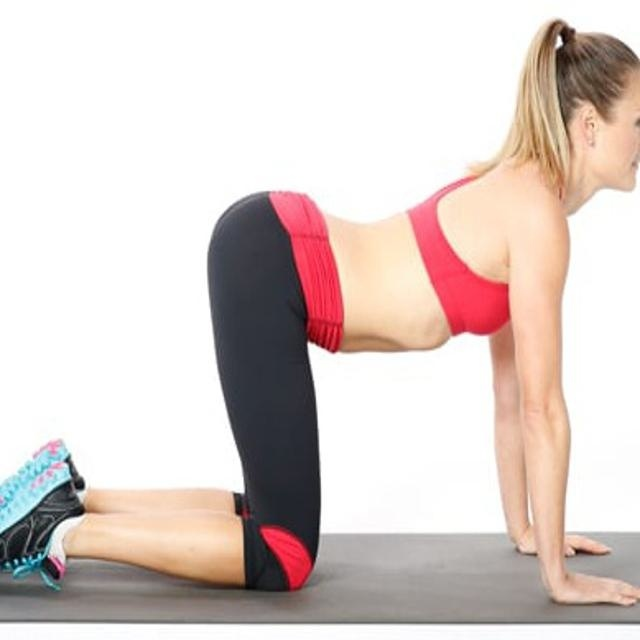Cow_Pose: (10, 32, 635, 607)
